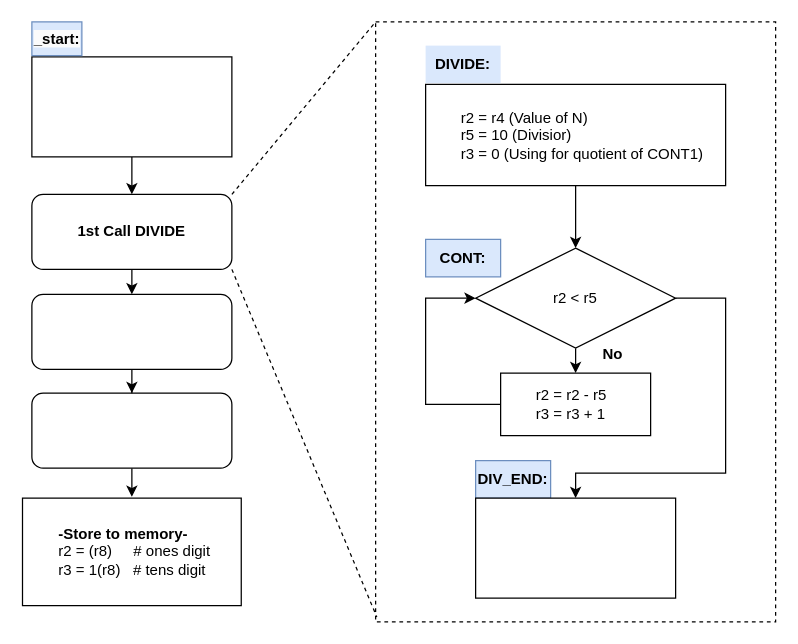
Image size: 798x644. Some labels were removed from this diagram. Here are the shapes that lost their labels. From the top down, the centre of each, then its label:
point (131, 106): r4 = location of N r8 = location of Digits r4 = Vaule of N
point (131, 331): 2nd Call DIVIDE
point (131, 430): 3rd Call DIVIDE
point (575, 547): -RETURN- r2 = ones digit r3 = tens digit
